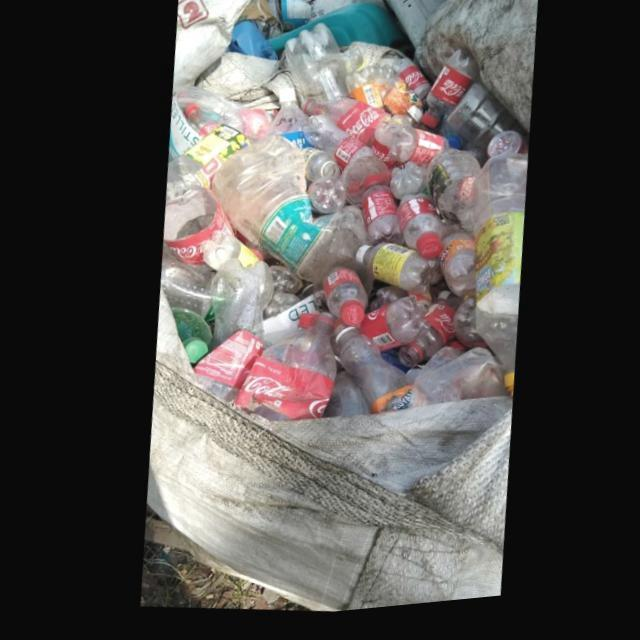plastic_bottle: (208, 141, 369, 297), (469, 161, 524, 408), (188, 264, 270, 407), (227, 318, 332, 426), (328, 330, 424, 421), (162, 128, 247, 204), (443, 92, 526, 161), (281, 29, 345, 106), (155, 252, 212, 337), (392, 299, 454, 375), (350, 249, 437, 302), (419, 57, 477, 135), (423, 157, 476, 242), (299, 105, 385, 151), (301, 121, 370, 177), (354, 304, 422, 358), (392, 201, 442, 268), (317, 270, 363, 333), (434, 230, 472, 305), (383, 131, 446, 176), (356, 192, 399, 253), (166, 310, 207, 369), (268, 94, 306, 155), (303, 184, 342, 224), (386, 169, 425, 208), (483, 140, 525, 168), (300, 154, 336, 186), (288, 318, 312, 341)
